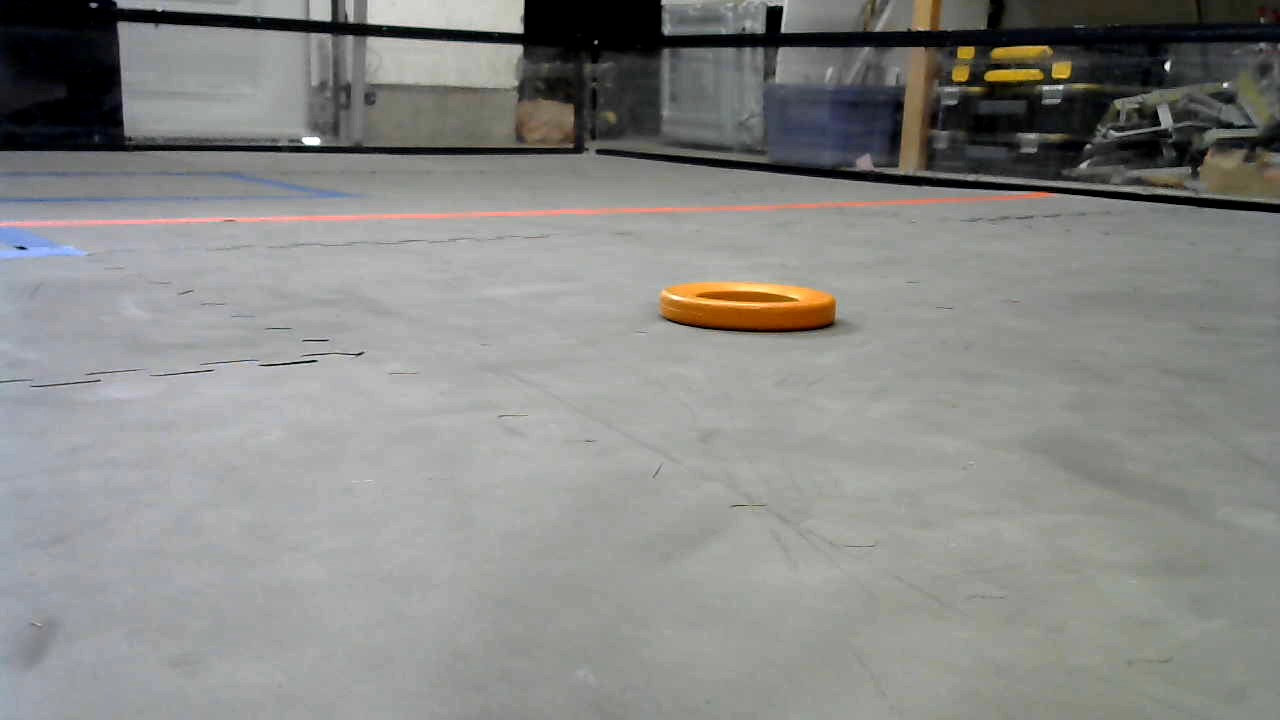OneStack: (661, 281, 837, 329)
